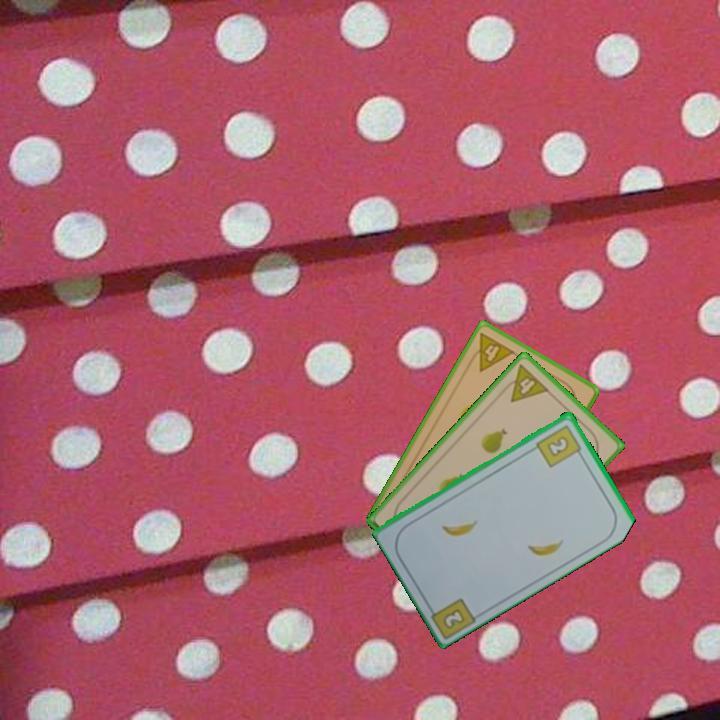2b: (424, 594, 480, 640), (533, 421, 585, 470)
4p: (464, 329, 518, 375), (497, 360, 552, 405)
